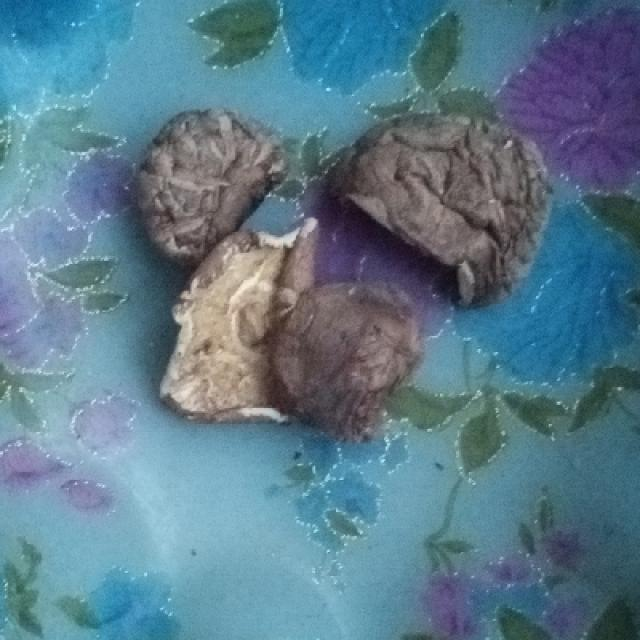Lentinus edodes: (347, 120, 554, 300), (160, 224, 321, 425), (142, 106, 283, 260), (272, 284, 419, 431)
